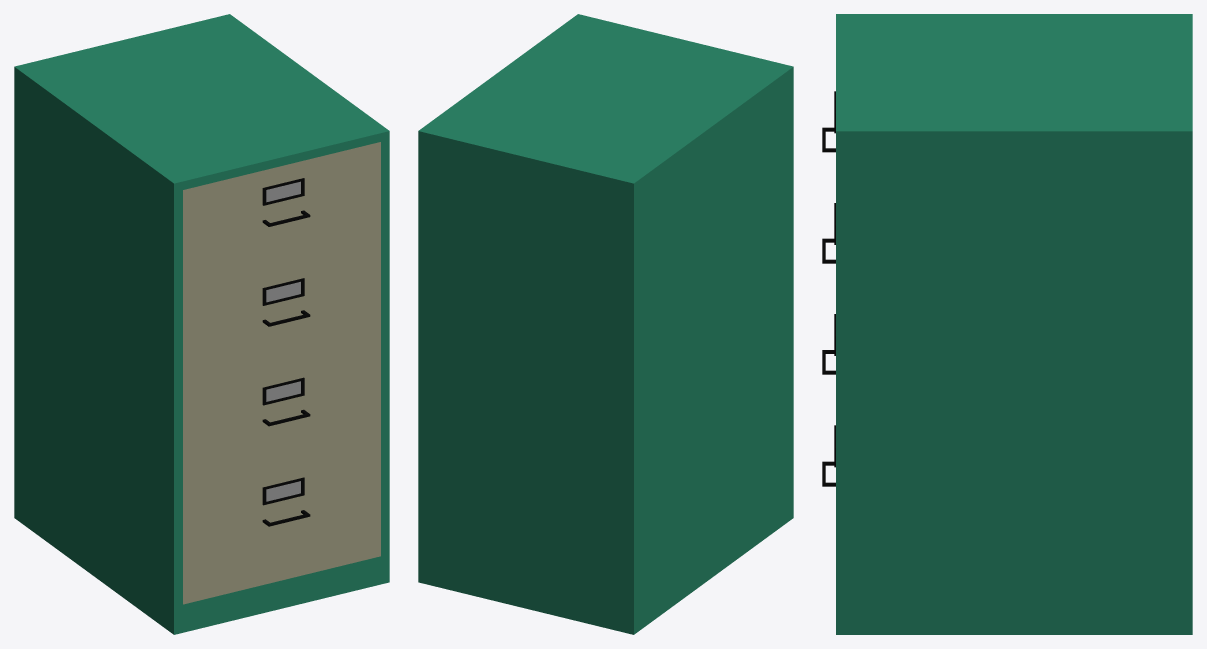
Rendered from FilingCabinet_01.fbx.
3 renders of one model, left to right at view 1: azimuth 30°, elevation 25°; view 2: azimuth 150°, elevation 25°; view 3: azimuth 270°, elevation 25°, orthographic. The views are drawn at different scales.
Parts seen in each view (by area): view 1: FilingCabinet_01; view 2: FilingCabinet_01; view 3: FilingCabinet_01.
Part boxes in pixels (x1,y1,x2,y2): FilingCabinet_01: (14, 14, 389, 634); FilingCabinet_01: (418, 14, 793, 634); FilingCabinet_01: (822, 14, 1192, 634).
Size of the model in its own units: 0.75 by 1.5 by 1.
